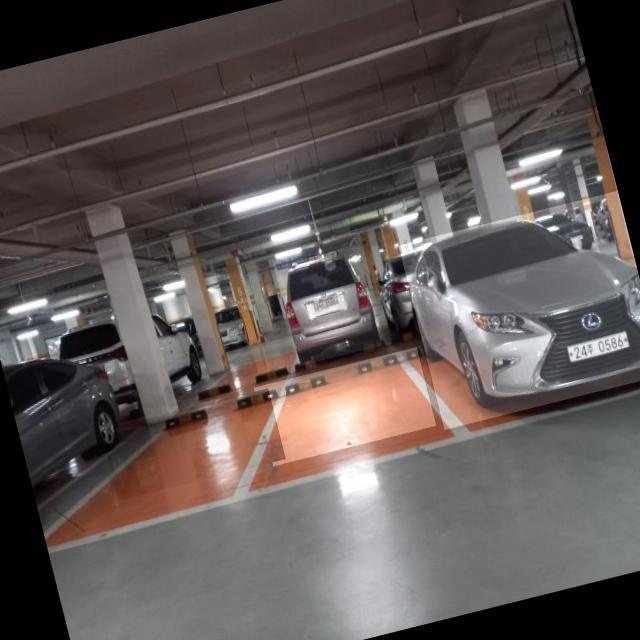empty: (253, 346, 436, 466), (100, 388, 286, 500)
occupied: (398, 190, 640, 429), (274, 246, 382, 366)
